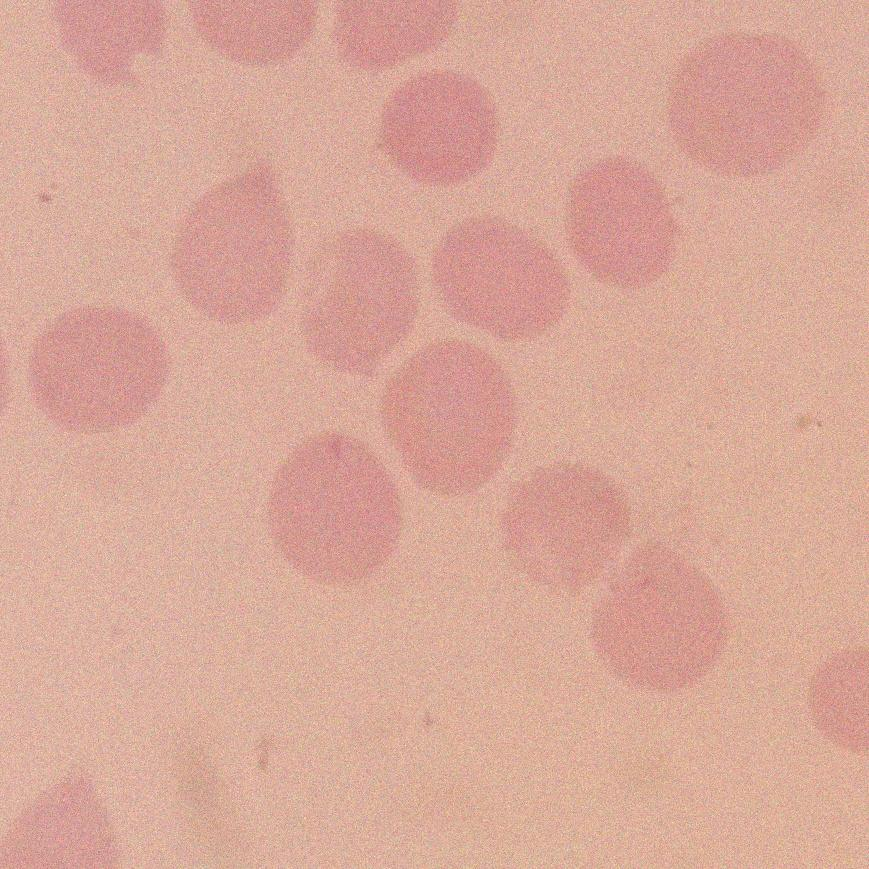Uninfected: (670, 21, 822, 176), (590, 536, 732, 693), (265, 431, 400, 583), (382, 346, 510, 496), (430, 216, 573, 350), (35, 303, 172, 435), (170, 166, 287, 318), (302, 228, 422, 370), (568, 148, 680, 284), (505, 458, 627, 580), (380, 66, 498, 184)
